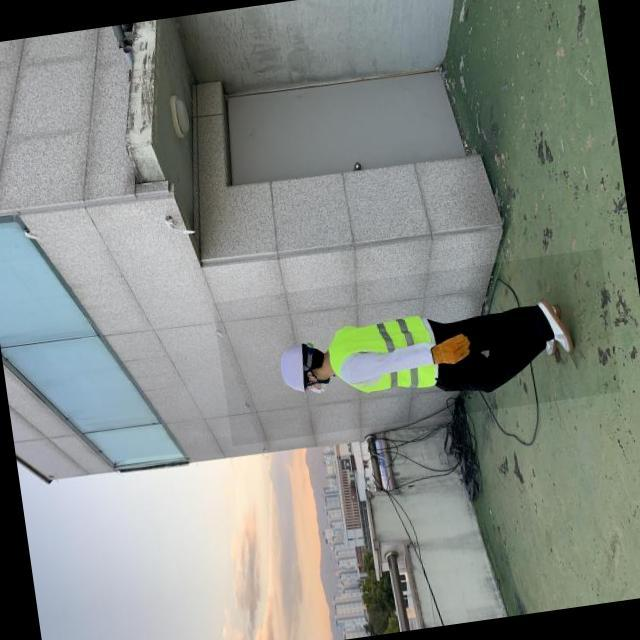Gloves: (426, 330, 477, 372)
Helmet: (277, 339, 314, 401)
Person: (258, 275, 593, 410)
Safety Boot: (532, 292, 581, 363)
Safety Vest: (321, 311, 445, 404)
